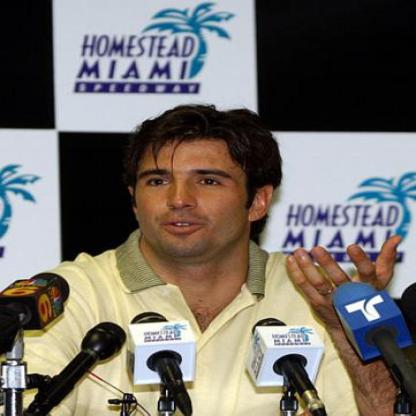face: (133, 112, 256, 261)
